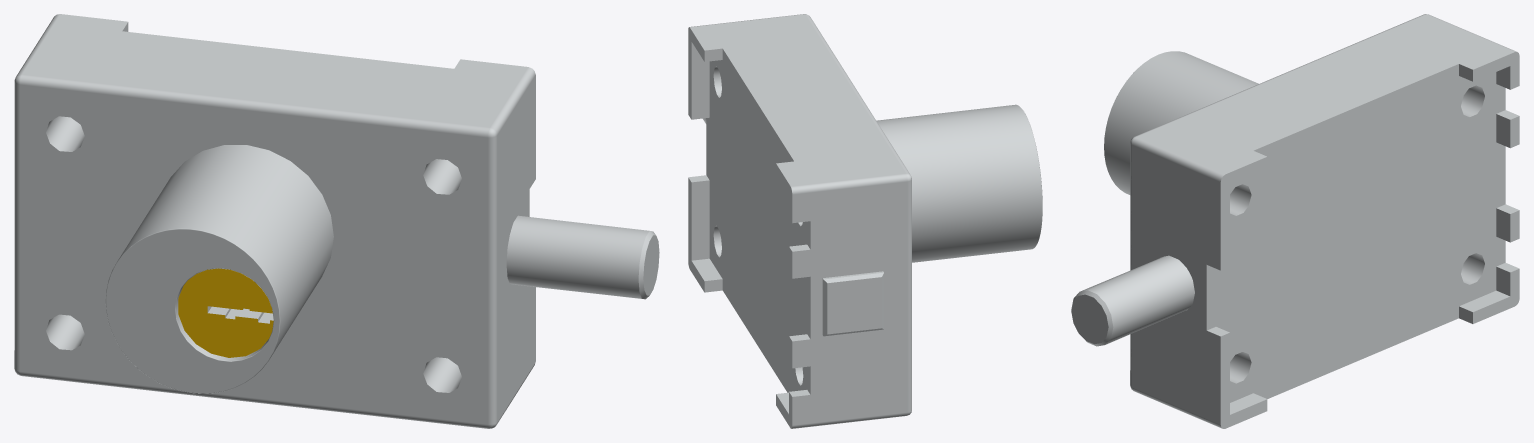
Rendered from 07_blokirovka-ronis.glb.
3 views of the same model, side by side, from view 1: azimuth 30°, elevation 25°; view 2: azimuth 150°, elevation 25°; view 3: azimuth 270°, elevation 25° (orthographic). The views are drawn at different scales.
Visible parts, largest first — view 1: 07_blokirovka-ronis; view 2: 07_blokirovka-ronis; view 3: 07_blokirovka-ronis.
Part boxes in pixels (box(x1,y1,x2,y2)): 07_blokirovka-ronis: box(14, 14, 659, 428); 07_blokirovka-ronis: box(688, 14, 1042, 428); 07_blokirovka-ronis: box(1071, 14, 1519, 428).
Size of the model in its own units: 0.0728 by 0.0425 by 0.0679.
